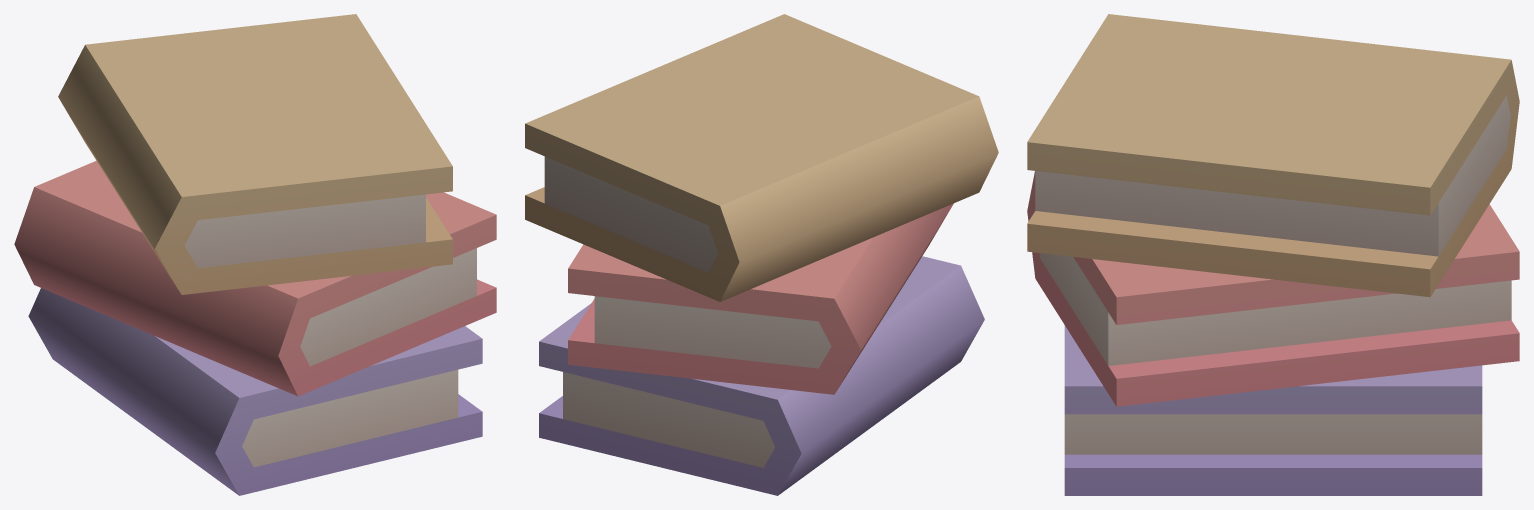
Rendered from books-laying (%thumbnail)_0.glb.
The picture shows the model from 3 angles, left to right: view 1: azimuth 30°, elevation 25°; view 2: azimuth 150°, elevation 25°; view 3: azimuth 270°, elevation 25°; orthographic projection. The views are drawn at different scales.
Visible parts, largest first — view 1: books-laying (%thumbnail); view 2: books-laying (%thumbnail); view 3: books-laying (%thumbnail).
Boxes of the visible parts, <box> form: books-laying (%thumbnail): <box>14,14,496,495</box>; books-laying (%thumbnail): <box>525,14,998,495</box>; books-laying (%thumbnail): <box>1027,14,1519,495</box>.
Size of the model in its own units: 0.2813 by 0.231 by 0.3139.
